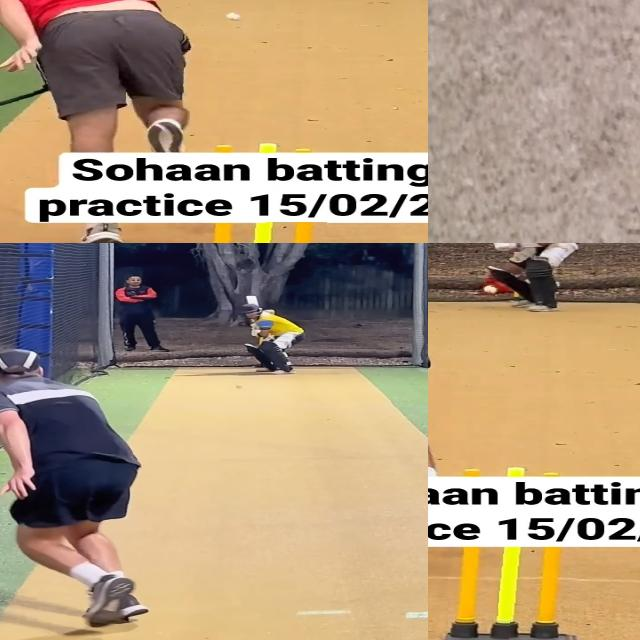Cricket ball: (226, 12, 242, 21), (484, 285, 499, 294), (234, 382, 246, 390)
Stumps: (447, 547, 580, 640)
